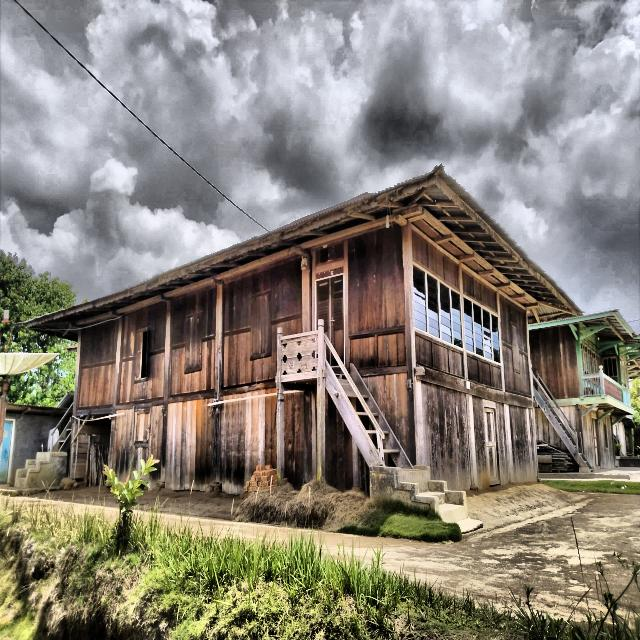door: (315, 273, 345, 365), (483, 399, 501, 488), (510, 321, 520, 374)
ornamen: (281, 333, 318, 375)
roof: (26, 165, 581, 339), (529, 310, 640, 378)
stair: (324, 334, 468, 523), (533, 374, 593, 471), (14, 402, 74, 489)
wall: (222, 257, 303, 391), (348, 224, 406, 369), (412, 229, 465, 379), (417, 379, 471, 490), (170, 286, 217, 397), (462, 267, 503, 391), (119, 301, 167, 404), (469, 394, 509, 490), (78, 319, 119, 410), (499, 293, 532, 399), (506, 404, 537, 483)
window: (250, 290, 271, 360), (184, 311, 203, 374), (412, 263, 428, 333), (134, 326, 151, 383), (439, 281, 453, 344), (427, 272, 440, 339), (451, 289, 463, 349), (463, 296, 475, 354), (134, 409, 150, 448), (473, 302, 484, 357), (482, 308, 493, 361), (491, 313, 501, 364)
